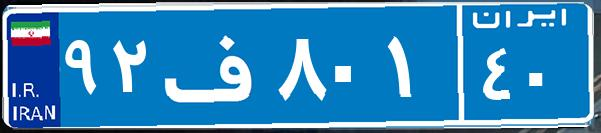0: (330, 28, 385, 110), (525, 38, 570, 115)
1: (385, 28, 445, 110)
2: (110, 28, 158, 105)
4: (475, 38, 525, 113)
8: (273, 28, 330, 110)
9: (57, 26, 110, 107)
ف: (158, 15, 273, 115)
